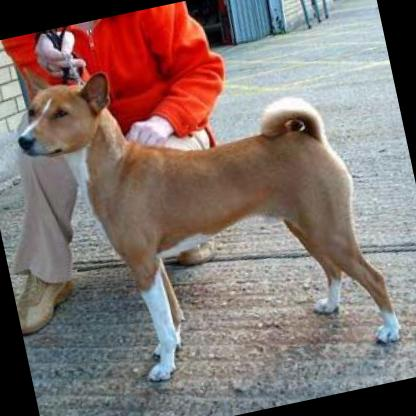basenji: (0, 0, 403, 411)
